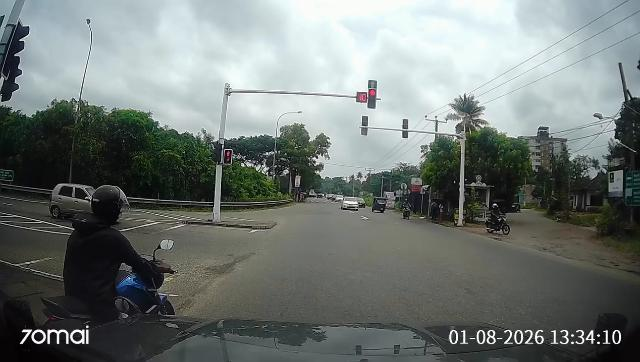traffic light red: (363, 83, 383, 111)
